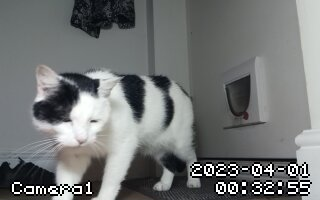bad: (23, 60, 210, 193)
